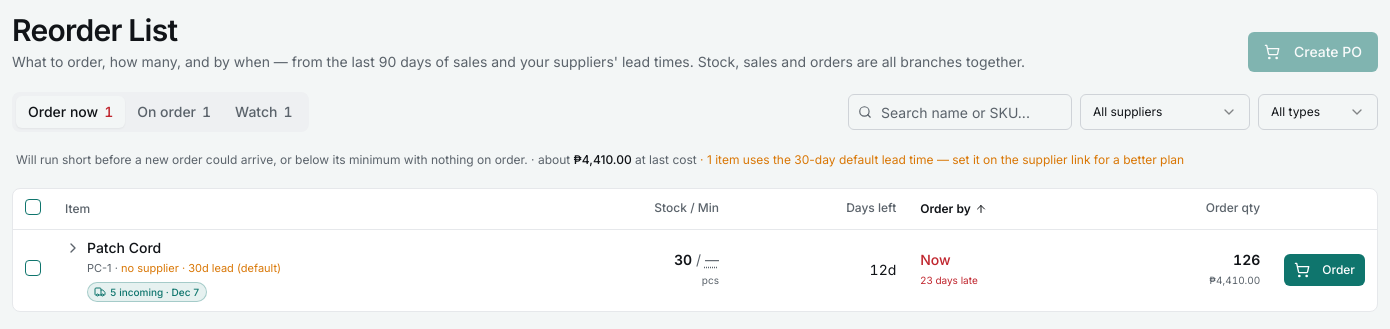
Test: Reorder List › lists an item below its minimum with an order coming under On order, with the top-up still to order
Check: the text "Patch Cord" is shown, box [87,238,161,256]
Check: the text "Video Balun" is not shown
Click the tab "On order1" at point(174, 112), box [125,96,223,128]
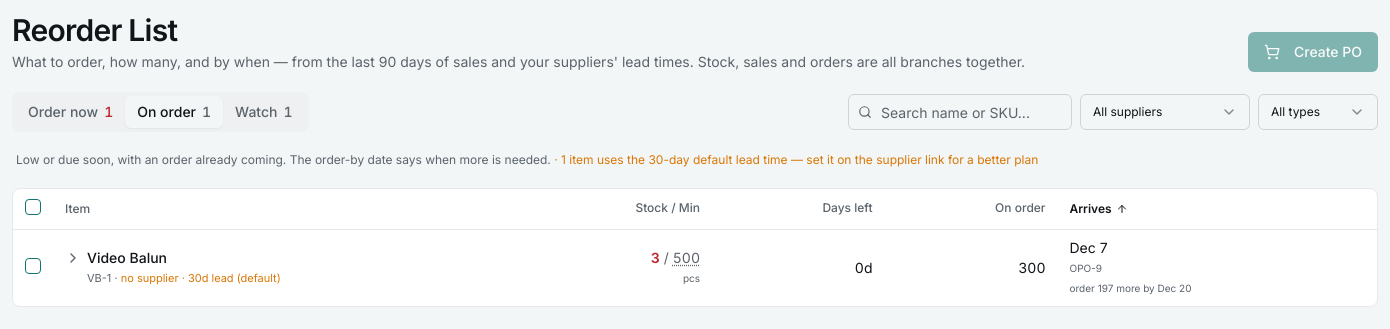
Check: the text "Video Balun" is shown, box [87,248,167,266]
Check: the text "order 197 more by Dec 20" is shown, box [1070,282,1192,294]
